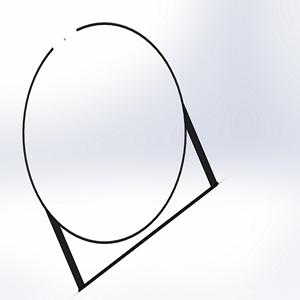circle: (20, 17, 220, 290)
